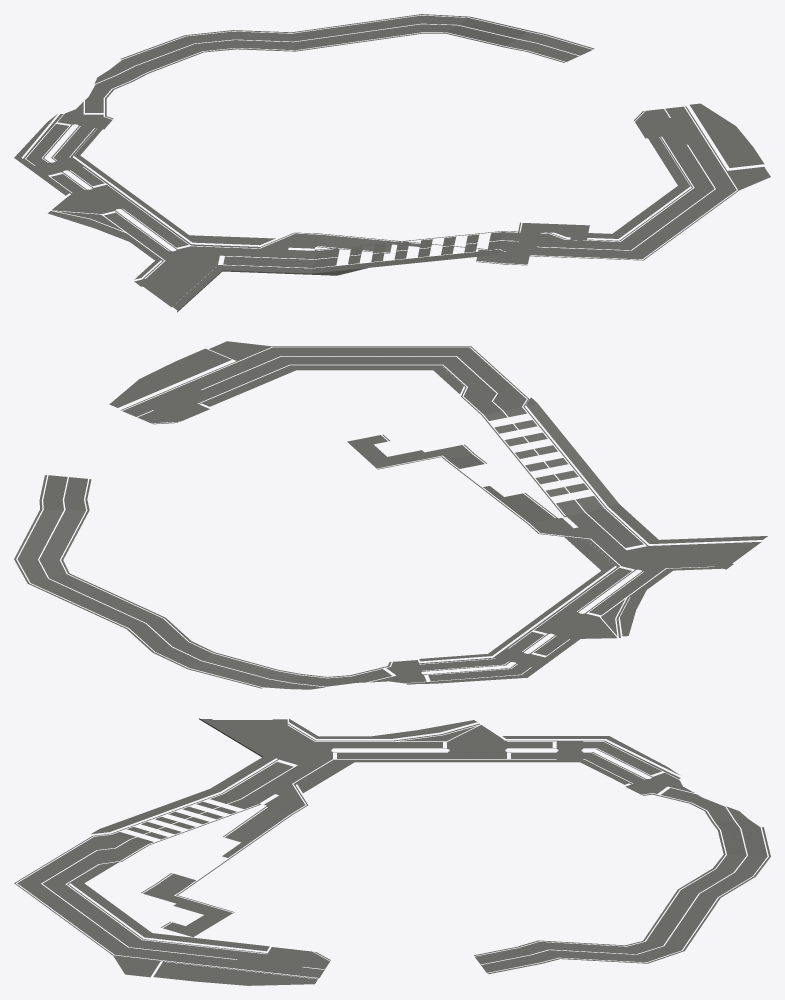
File: kd_connection_town-ground_surface_5_15.glb
3 renders of one model, top to bottom at view 1: azimuth 30°, elevation 25°; view 2: azimuth 150°, elevation 25°; view 3: azimuth 270°, elevation 25°, orthographic. The views are drawn at different scales.
Parts seen in each view (by area): view 1: kd_connection_town-ground_surface_5_15; view 2: kd_connection_town-ground_surface_5_15; view 3: kd_connection_town-ground_surface_5_15.
Boxes of the visible parts, box(x1,y1,x2,y2) form: kd_connection_town-ground_surface_5_15: box(14, 14, 770, 312); kd_connection_town-ground_surface_5_15: box(14, 341, 767, 689); kd_connection_town-ground_surface_5_15: box(14, 718, 770, 985).
Bounding box in the file's own units: 104 × 6.4 × 113.
Materials: 1 (1 with a texture image).
